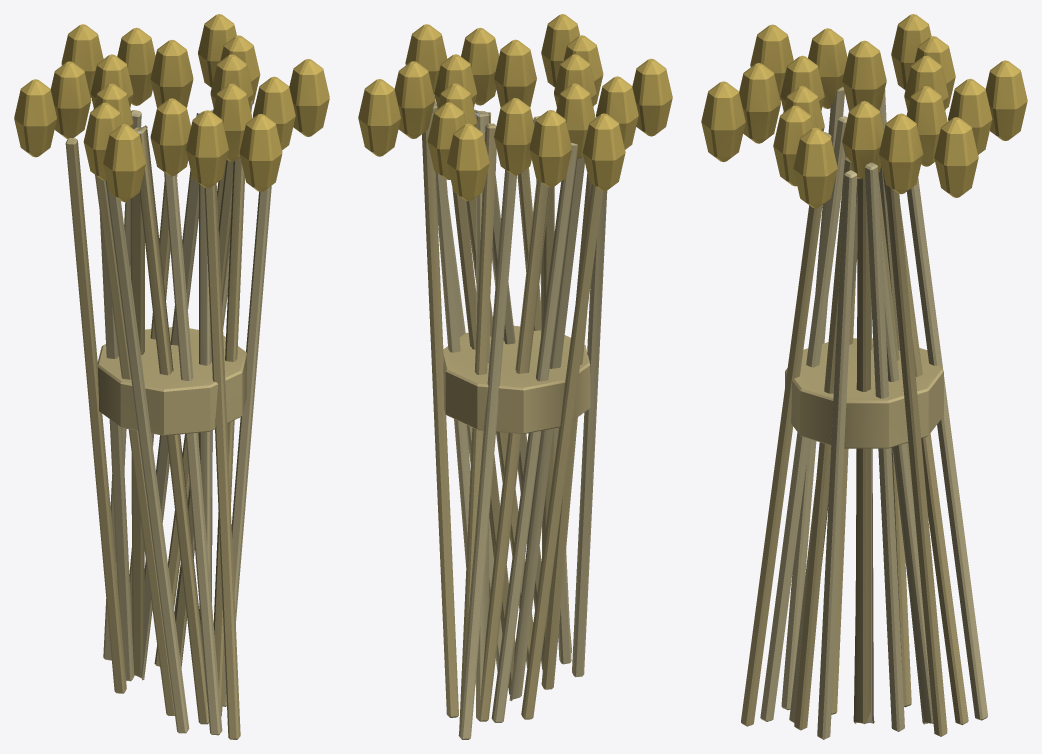
Rendered from harvest_straw_sheaf.glb.
3 renders of one model, left to right at view 1: azimuth 30°, elevation 25°; view 2: azimuth 150°, elevation 25°; view 3: azimuth 270°, elevation 25°, orthographic. The views are drawn at different scales.
Bounding box in the file's own units: 0.4666 × 1.09 × 0.4923.
